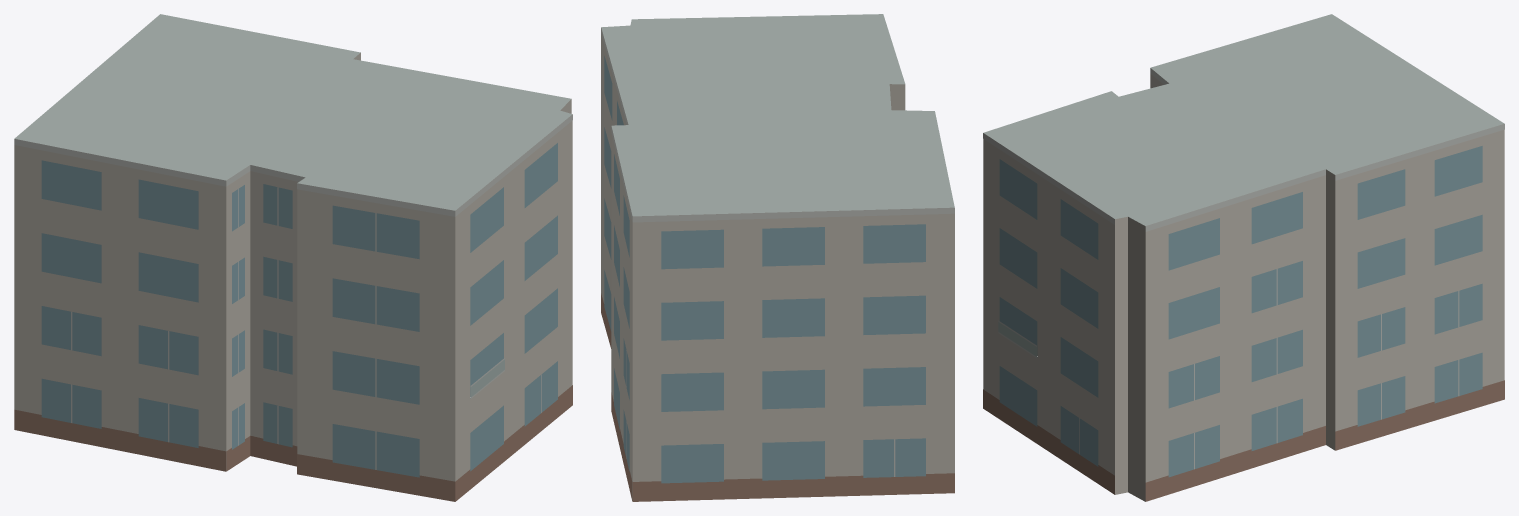
The model's file is survey-upis-32811881.glb.
The picture shows the model from 3 angles, left to right: view 1: azimuth 30°, elevation 25°; view 2: azimuth 150°, elevation 25°; view 3: azimuth 270°, elevation 25°; orthographic projection. The views are drawn at different scales.
Visible parts, largest first — view 1: survey-upis-32811881.tmp; view 2: survey-upis-32811881.tmp; view 3: survey-upis-32811881.tmp.
Boxes of the visible parts, x1,y1,x2,y2 form: survey-upis-32811881.tmp: [14, 14, 572, 501]; survey-upis-32811881.tmp: [601, 14, 954, 501]; survey-upis-32811881.tmp: [983, 14, 1504, 501].
Bounding box in the file's own units: 18.98 × 11.5 × 19.73.
